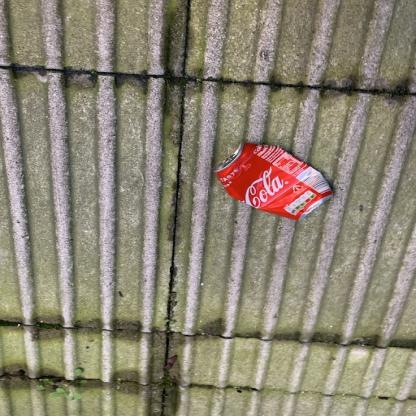trash: (213, 142, 339, 223)
